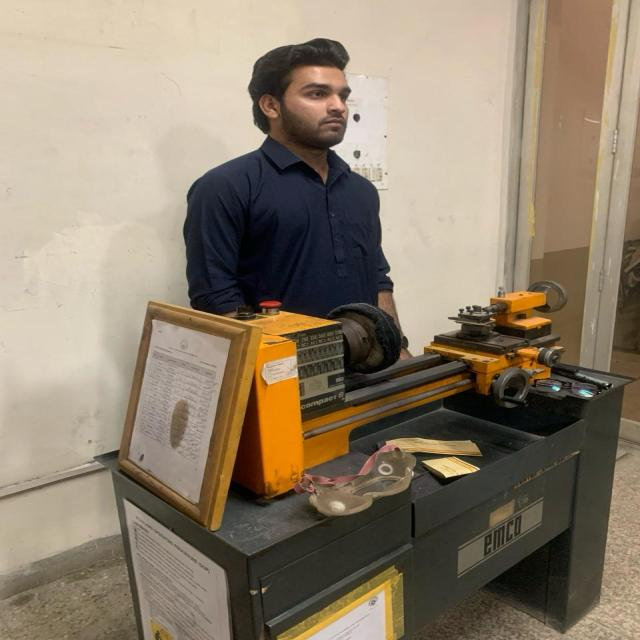dress: (179, 131, 400, 320)
